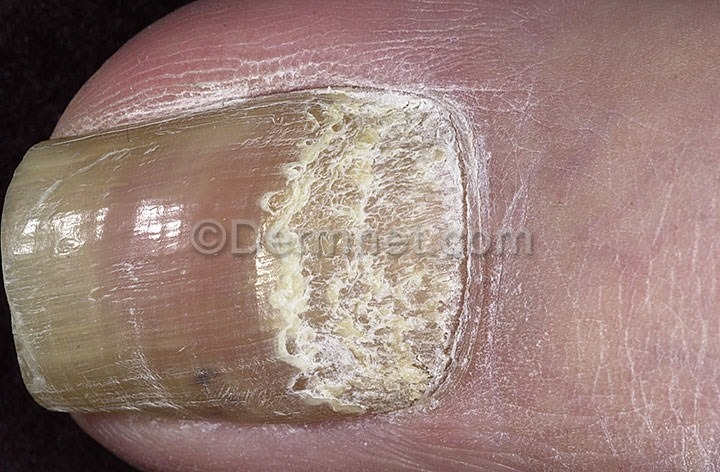Psoriasis: (204, 65, 547, 422)
